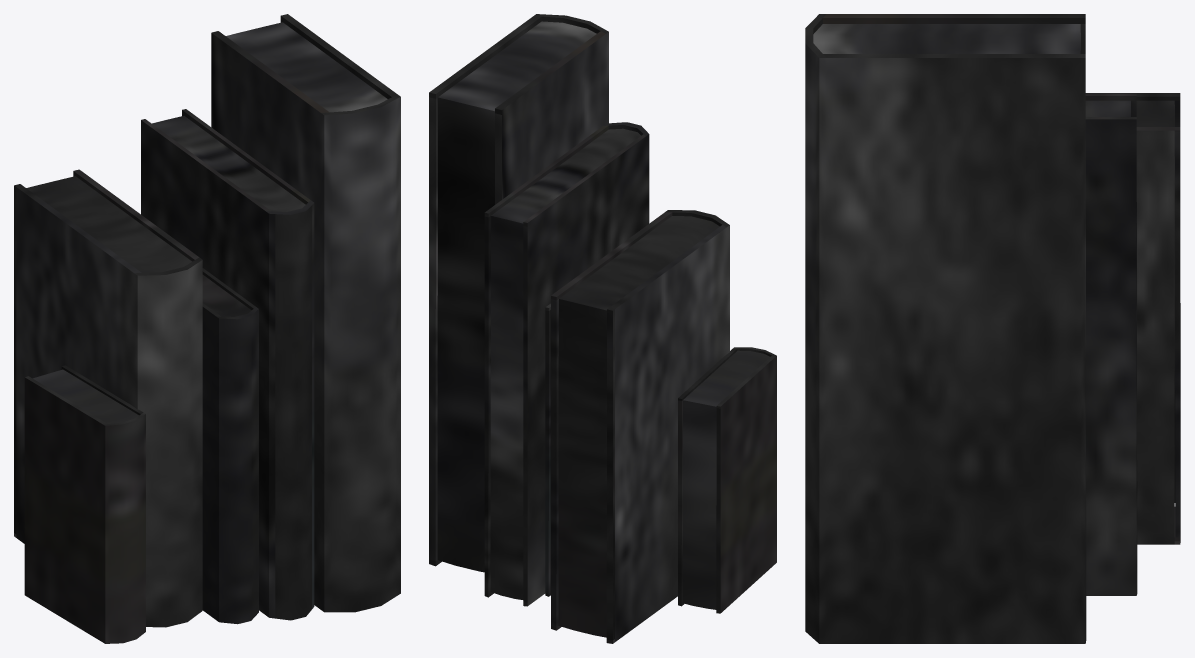
The model's file is SM_Books_13.fbx.
3 views of the same model, side by side, from view 1: azimuth 30°, elevation 25°; view 2: azimuth 150°, elevation 25°; view 3: azimuth 270°, elevation 25° (orthographic). The views are drawn at different scales.
Parts seen in each view (by area): view 1: SM_Books_13; view 2: SM_Books_13; view 3: SM_Books_13.
Boxes of the visible parts, <box> form: SM_Books_13: <box>14,14,400,643</box>; SM_Books_13: <box>429,14,776,643</box>; SM_Books_13: <box>805,14,1180,643</box>.
Bounding box in the file's own units: 23.27 × 22.51 × 38.91.
1 material, 1 textured.
